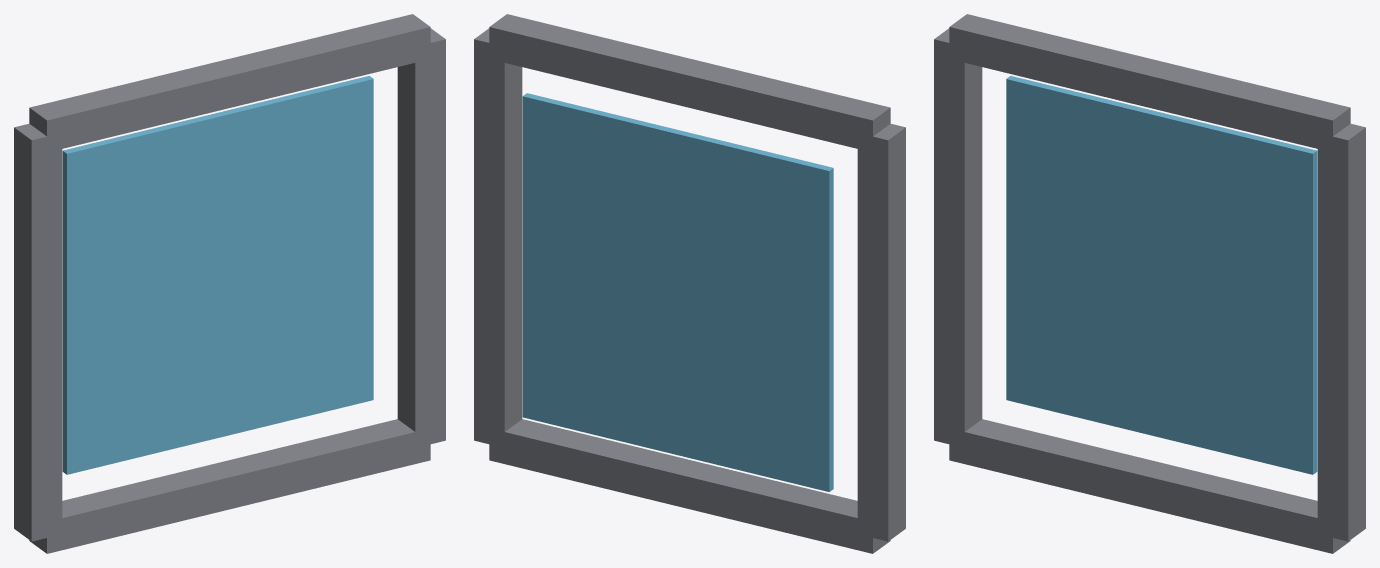
Rendered from obstacle_liquidity_pool_pit.glb.
The picture shows the model from 3 angles, left to right: view 1: azimuth 30°, elevation 25°; view 2: azimuth 150°, elevation 25°; view 3: azimuth 330°, elevation 25°; orthographic projection.
Visible parts, largest first — view 1: pool, frame3, frame2, frame4, frame1; view 2: pool, frame3, frame2, frame4, frame1; view 3: pool, frame4, frame2, frame3, frame1.
Boxes of the visible parts, x1,y1,x2,y2 form: pool: (62, 76, 373, 474); frame3: (14, 123, 62, 541); frame2: (29, 14, 430, 152); frame4: (397, 28, 445, 446); frame1: (29, 419, 430, 553); pool: (522, 93, 833, 491); frame3: (857, 123, 905, 541); frame2: (489, 14, 890, 151); frame4: (474, 28, 522, 447); frame1: (489, 419, 890, 553); pool: (1006, 76, 1317, 474); frame4: (1317, 123, 1365, 541); frame2: (949, 14, 1350, 152); frame3: (934, 28, 982, 447); frame1: (949, 419, 1350, 553).
Size of the model in its own units: 1.62 by 1.62 by 0.155.
